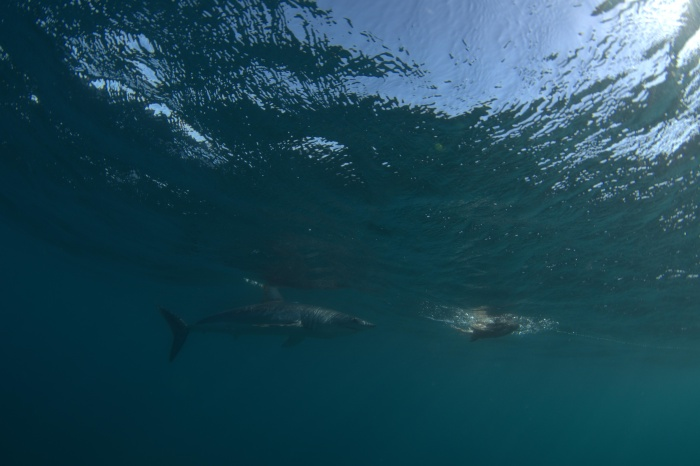Mako: (149, 276, 389, 366)
